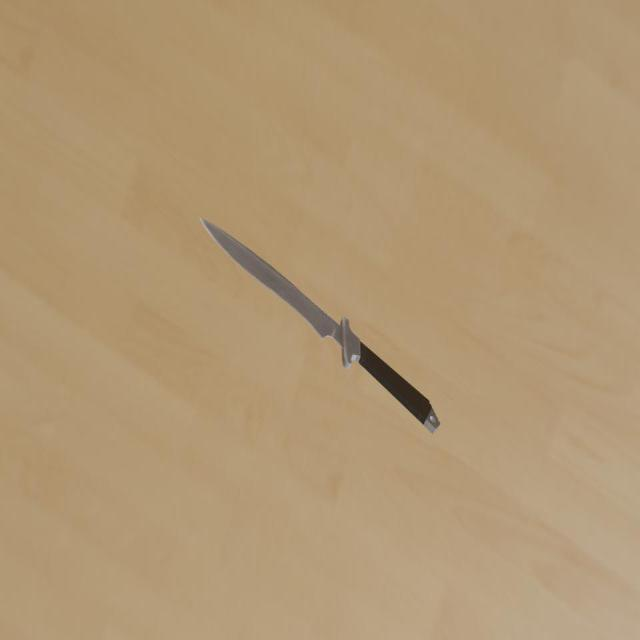knife: (359, 341, 440, 433)
